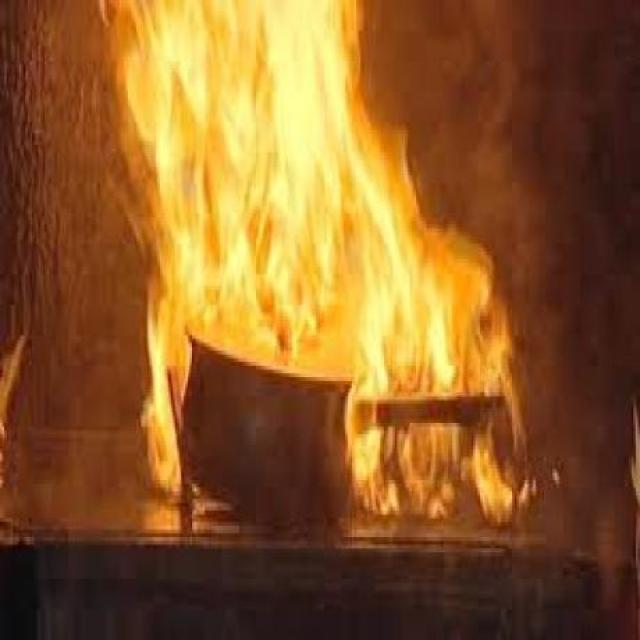Fire: (100, 4, 524, 546)
Smoke: (406, 0, 556, 221)
